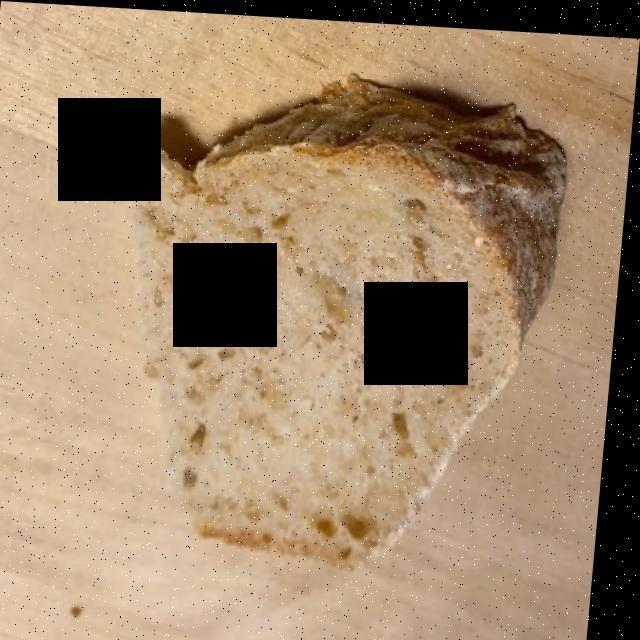bread: (137, 81, 563, 560)
